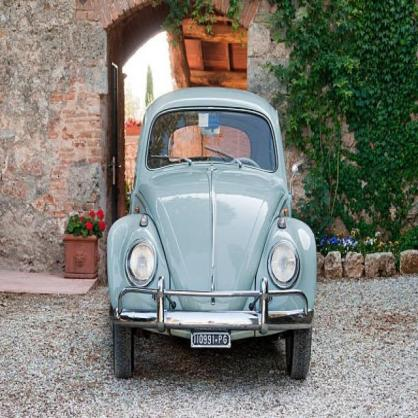car: (104, 88, 320, 384)
